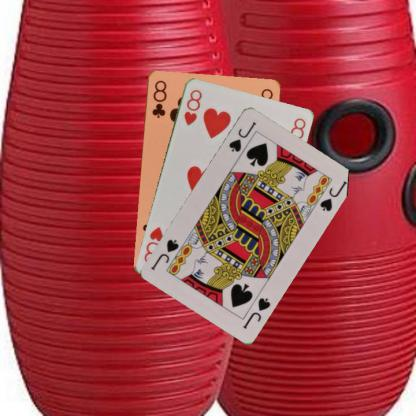8c: (149, 77, 168, 119)
8h: (181, 86, 203, 126)
Js: (240, 294, 272, 330), (226, 119, 258, 153)
